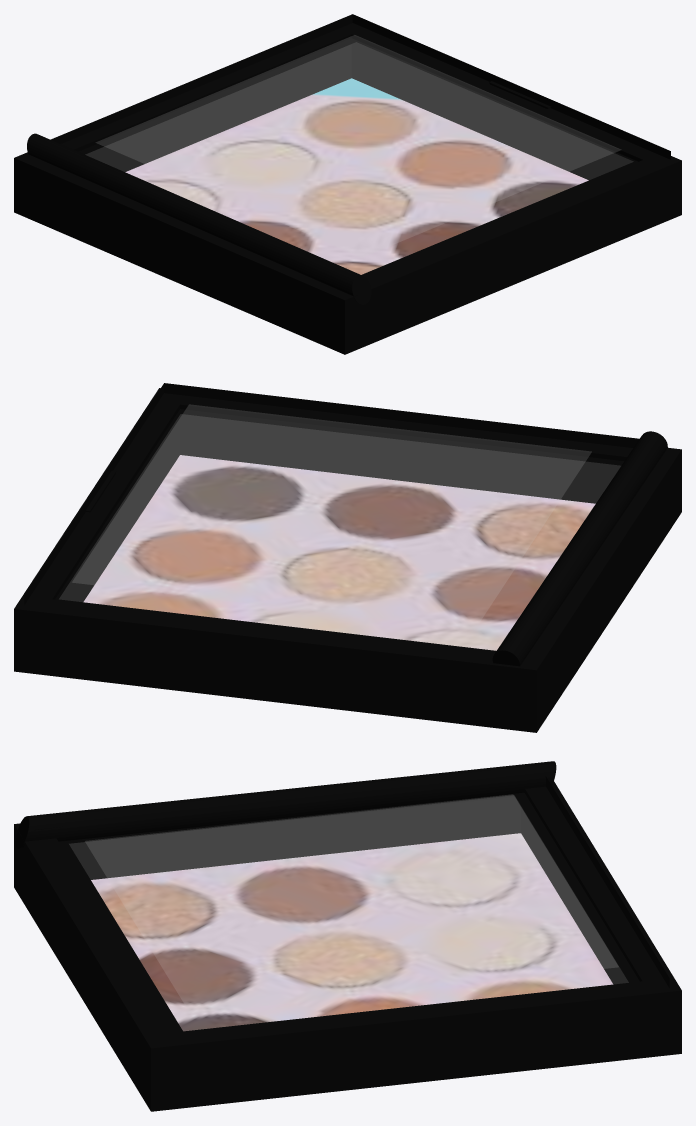
Rendered from blush.glb.
3 renders of one model, top to bottom at view 1: azimuth 30°, elevation 25°; view 2: azimuth 150°, elevation 25°; view 3: azimuth 270°, elevation 25°, orthographic. The views are drawn at different scales.
Visible parts, largest first — view 1: Cube.004; view 2: Cube.004; view 3: Cube.004.
Boxes of the visible parts, x1,y1,x2,y2 form: Cube.004: [14, 14, 681, 354]; Cube.004: [14, 383, 681, 732]; Cube.004: [14, 761, 681, 1111].
Size of the model in its own units: 0.3938 by 0.0528 by 0.3938.
Materials: 3 (1 with a texture image).
